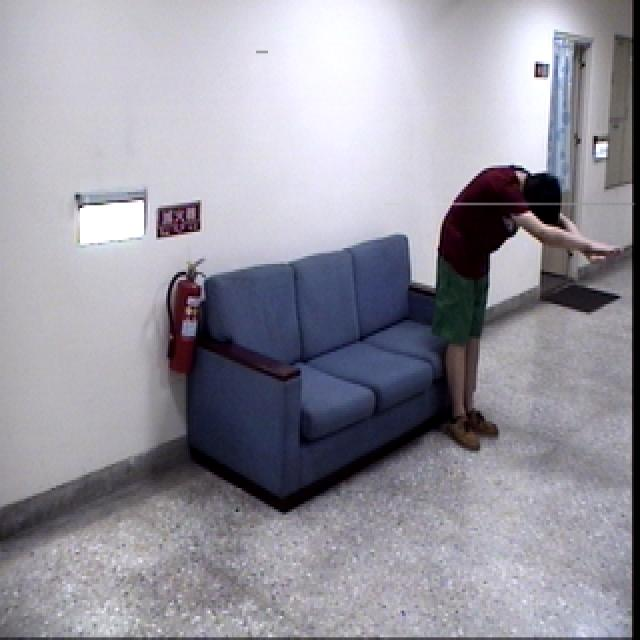bend: (426, 155, 628, 456)
